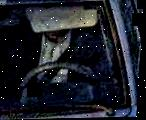seatbelt: (48, 27, 97, 80)
